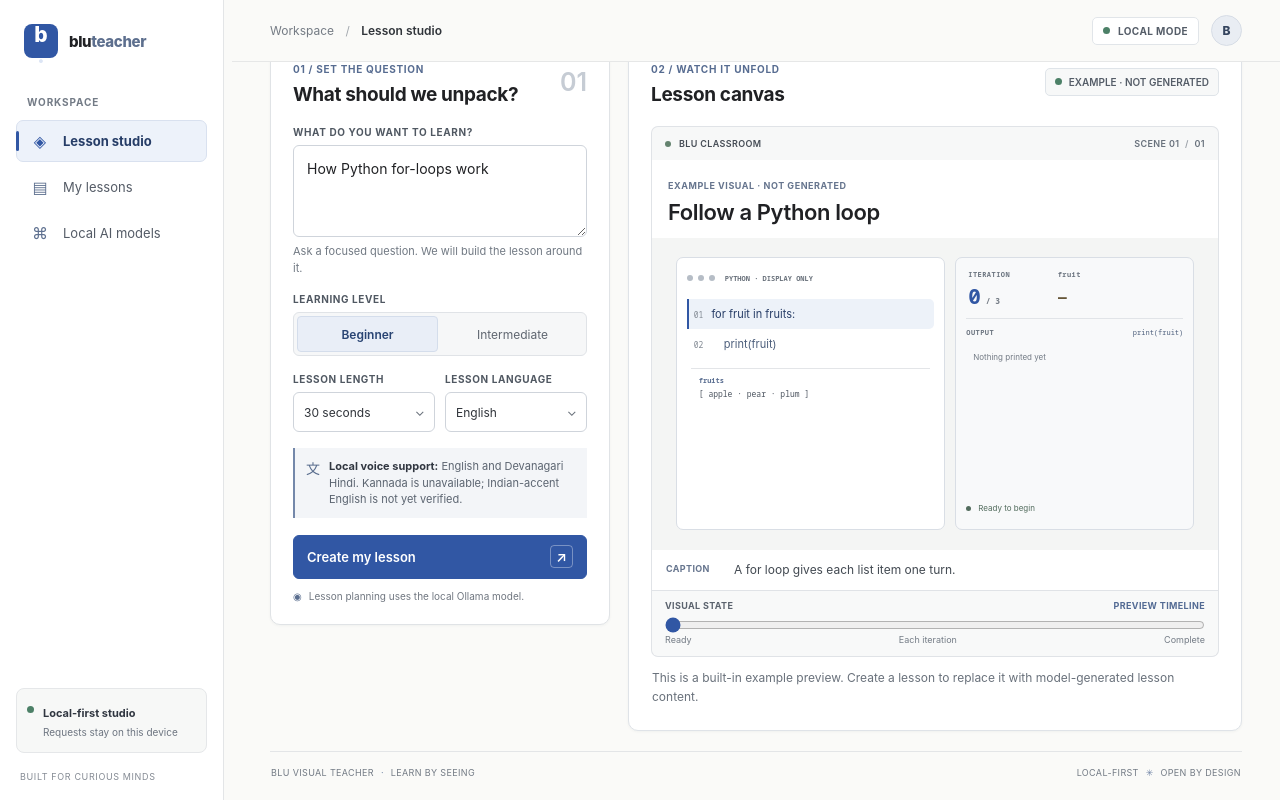
Test case: lesson studio API integration › shows backend validation errors and offers a retry
(page scrolled)
Step 1. Click the button "Create my lesson ↗" → [361, 556], box [293,534,587,578]
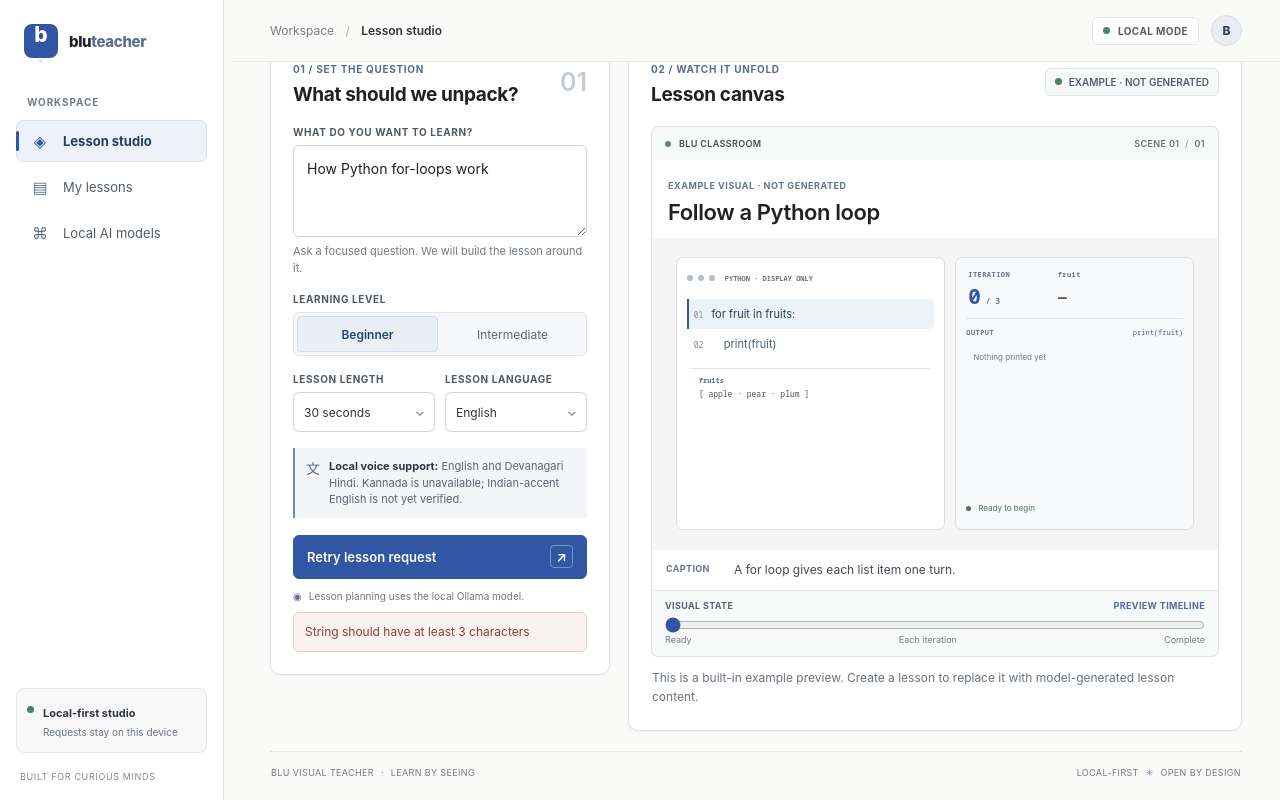
Expected: the message reads "String should have at least 3 characters", [305,624,530,638]
